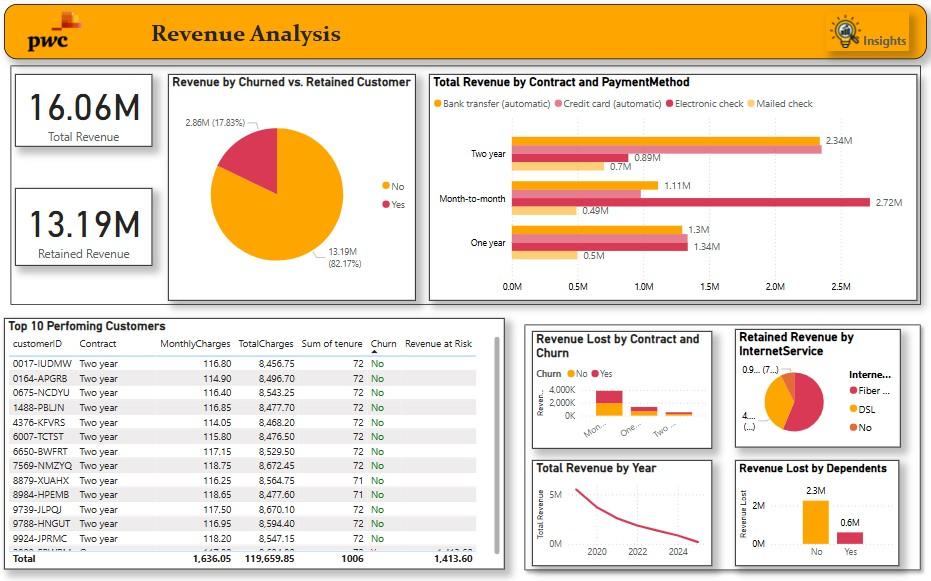

The page's visual inventory and layout, read from the dashboard file:
{"tool":"powerbi","page":{"name":"Revenue ","canvas":[1280,800],"ordinal":1},"visuals":[{"type":"shape","box":[717,443.8,563,356.2],"z":0},{"type":"shape","box":[9.1,86,1270.9,347.2],"z":1000},{"type":"card","fields":{"Values":["All Measures.Retain Revenue"]},"box":[24.2,264.2,188.7,107.2],"z":2000},{"type":"clusteredBarChart","title":"Total Revenue by Contract and PaymentMethod","fields":{"Category":["Churn-Dataset.Contract"],"Series":["Churn-Dataset.PaymentMethod"],"Y":["All Measures.Total Revenue"]},"box":[594.7,107.2,671.7,312.5],"z":3000},{"type":"textbox","box":[9.6,11,1270.4,75.7],"z":4000},{"type":"image","box":[9.6,11,140.4,75.7],"z":5000},{"type":"columnChart","fields":{"Y":["All Measures.Revenue Lost"],"Category":["Churn-Dataset.Contract"],"Series":["Churn-Dataset.Churn"]},"box":[736.6,460.4,247.5,161.5],"z":6000},{"type":"pieChart","fields":{"Y":["All Measures.Retain Revenue"],"Category":["Churn-Dataset.InternetService"]},"box":[1015.8,458.9,227.9,163],"z":7000},{"type":"pieChart","title":"Revenue  by Churned vs. Retained Customer","fields":{"Category":["Churn-Dataset.Churn"],"Y":["All Measures.Total Revenue"]},"box":[235.5,107.2,341.1,312.5],"z":8000},{"type":"lineChart","fields":{"Category":["Churn-Dataset.EstimatedStartDate.Variation.Date Hierarchy.Year","Churn-Dataset.EstimatedStartDate.Variation.Date Hierarchy.Month"],"Y":["All Measures.Total Revenue"]},"box":[736.6,638.5,247.5,146.4],"z":9000},{"type":"card","fields":{"Values":["All Measures.Total Revenue"]},"box":[24.2,107.2,188.7,99.6],"z":10000},{"type":"columnChart","fields":{"Y":["All Measures.Revenue Lost"],"Category":["Churn-Dataset.Dependents"]},"box":[1015.8,638.5,226.4,146.4],"z":11000},{"type":"tableEx","title":"Top  10 Perfoming Customers","fields":{"Values":["Churn-Dataset.customerID","Churn-Dataset.Contract","Sum(Churn-Dataset.MonthlyCharges)","Sum(Churn-Dataset.TotalCharges)","Sum(Churn-Dataset.tenure)","Churn-Dataset.Churn","All Measures.Revenue at Risk"]},"box":[24.2,443.8,674.7,345.7],"z":12000},{"type":"actionButton","box":[1141,22,114.2,53.7],"z":13000}]}

Visuals, with their boxes in screenshot pixels (x1, y1, x2, y2), scaled from the page's 1280x800 canvas onto the 931x581 screenshot:
shape: x1=522 y1=322 x2=930 y2=580
shape: x1=7 y1=62 x2=930 y2=315
card - All Measures.Retain Revenue: x1=18 y1=192 x2=155 y2=270
"Total Revenue by Contract and PaymentMethod" clusteredBarChart: x1=433 y1=78 x2=921 y2=305
textbox: x1=7 y1=8 x2=930 y2=63
image: x1=7 y1=8 x2=109 y2=63
columnChart - All Measures.Revenue Lost x Churn-Dataset.Contract: x1=536 y1=334 x2=716 y2=452
pieChart - All Measures.Retain Revenue x Churn-Dataset.InternetService: x1=739 y1=333 x2=905 y2=452
"Revenue  by Churned vs. Retained Customer" pieChart: x1=171 y1=78 x2=419 y2=305
lineChart - Churn-Dataset.EstimatedStartDate.Variation.Date Hierarchy.Year x Churn-Dataset.EstimatedStartDate.Variation.Date Hierarchy.Month: x1=536 y1=464 x2=716 y2=570
card - All Measures.Total Revenue: x1=18 y1=78 x2=155 y2=150
columnChart - All Measures.Revenue Lost x Churn-Dataset.Dependents: x1=739 y1=464 x2=904 y2=570
"Top  10 Perfoming Customers" tableEx: x1=18 y1=322 x2=508 y2=573
actionButton: x1=830 y1=16 x2=913 y2=55
